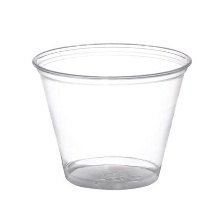glass: (29, 35, 209, 194)
